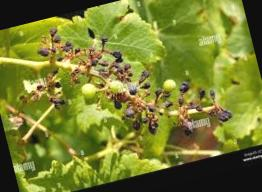Grape Rotten: (32, 0, 235, 166), (79, 80, 99, 100)
